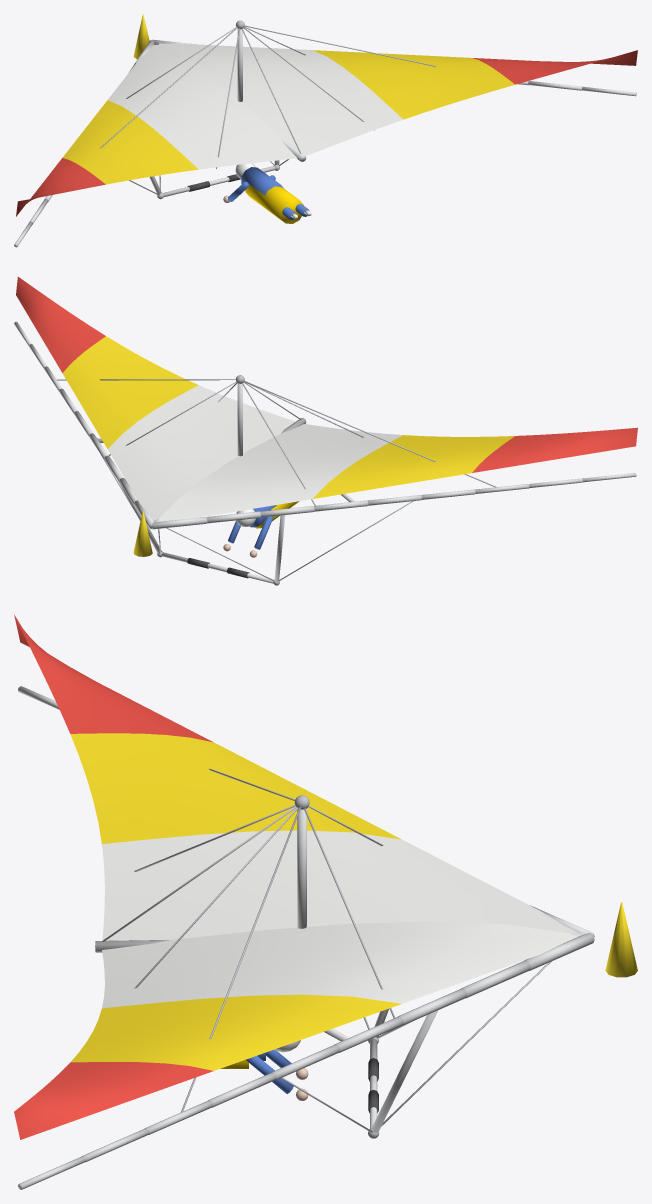
File: hang_glider.glb
The picture shows the model from 3 angles, top to bottom: view 1: azimuth 30°, elevation 25°; view 2: azimuth 150°, elevation 25°; view 3: azimuth 270°, elevation 25°; orthographic projection. The views are drawn at different scales.
Parts seen in each view (by area): view 1: hang_glider; view 2: hang_glider; view 3: hang_glider.
Part boxes in pixels (box(x1,y1,x2,y2)): hang_glider: box(14, 14, 637, 247); hang_glider: box(14, 277, 637, 585); hang_glider: box(14, 614, 637, 1189).
Size of the model in its own units: 9.44 by 2.6 by 4.98.
